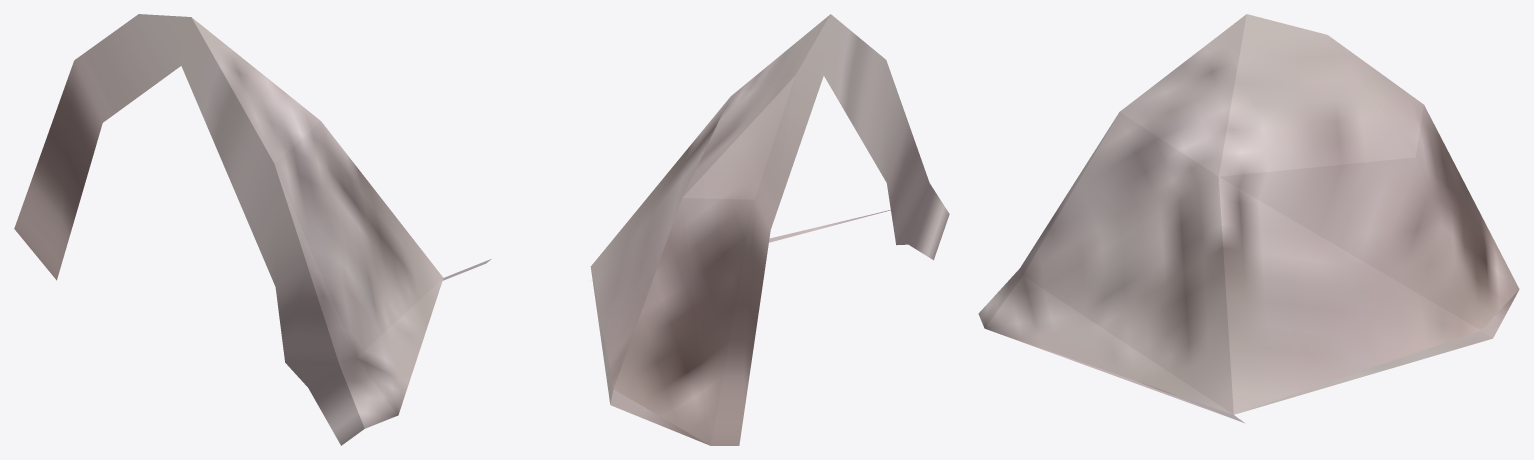
3 renders of one model, left to right at view 1: azimuth 30°, elevation 25°; view 2: azimuth 150°, elevation 25°; view 3: azimuth 270°, elevation 25°, orthographic. The views are drawn at different scales.
Parts seen in each view (by area): view 1: Mesh_0; view 2: Mesh_0; view 3: Mesh_0.
Boxes of the visible parts, bbox=[...] form: Mesh_0: bbox=[14, 14, 491, 445]; Mesh_0: bbox=[590, 14, 949, 445]; Mesh_0: bbox=[978, 14, 1519, 423].
Size of the model in its own units: 5.7 by 5.45 by 8.47.
1 material, 1 textured.
